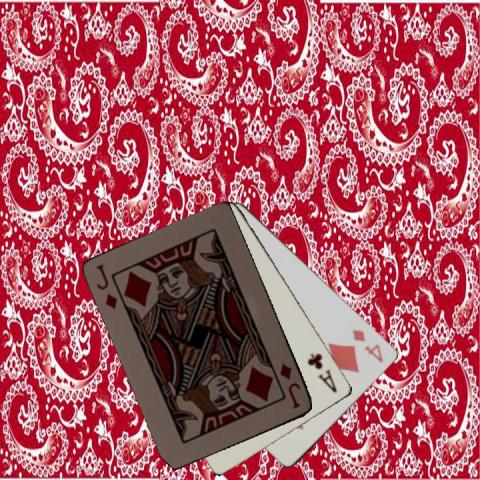4d: (350, 326, 386, 365)
Ac: (305, 350, 339, 395)
Jd: (276, 360, 302, 411), (94, 261, 119, 311)
